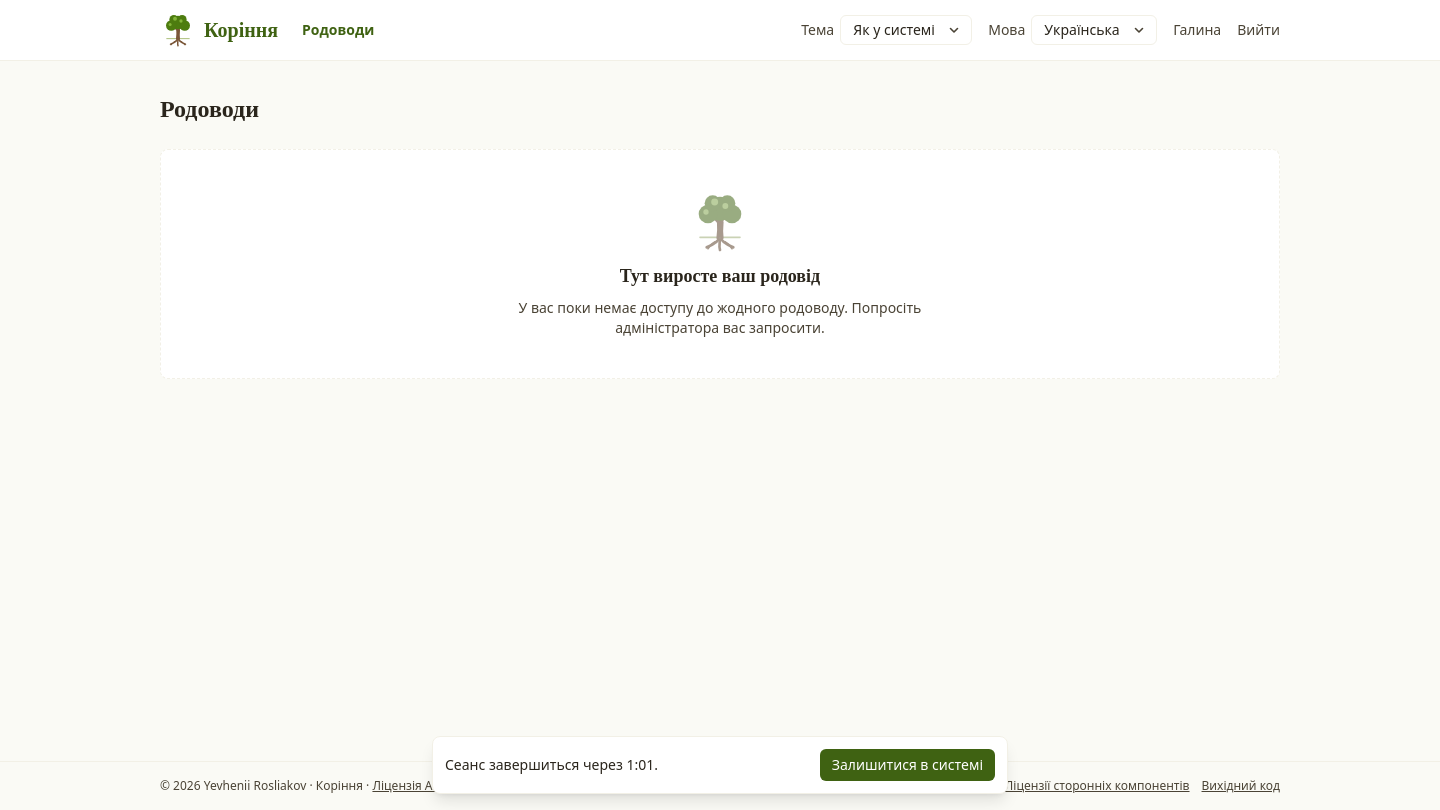
Test: session timeout › warns before the end and keeps the user signed in
Expected: the text "Сеанс завершиться через 1:01." is shown, [445,755,658,774]
Click the button "Залишитися в системі". click: (907, 765)
box: [820,749,995,781]
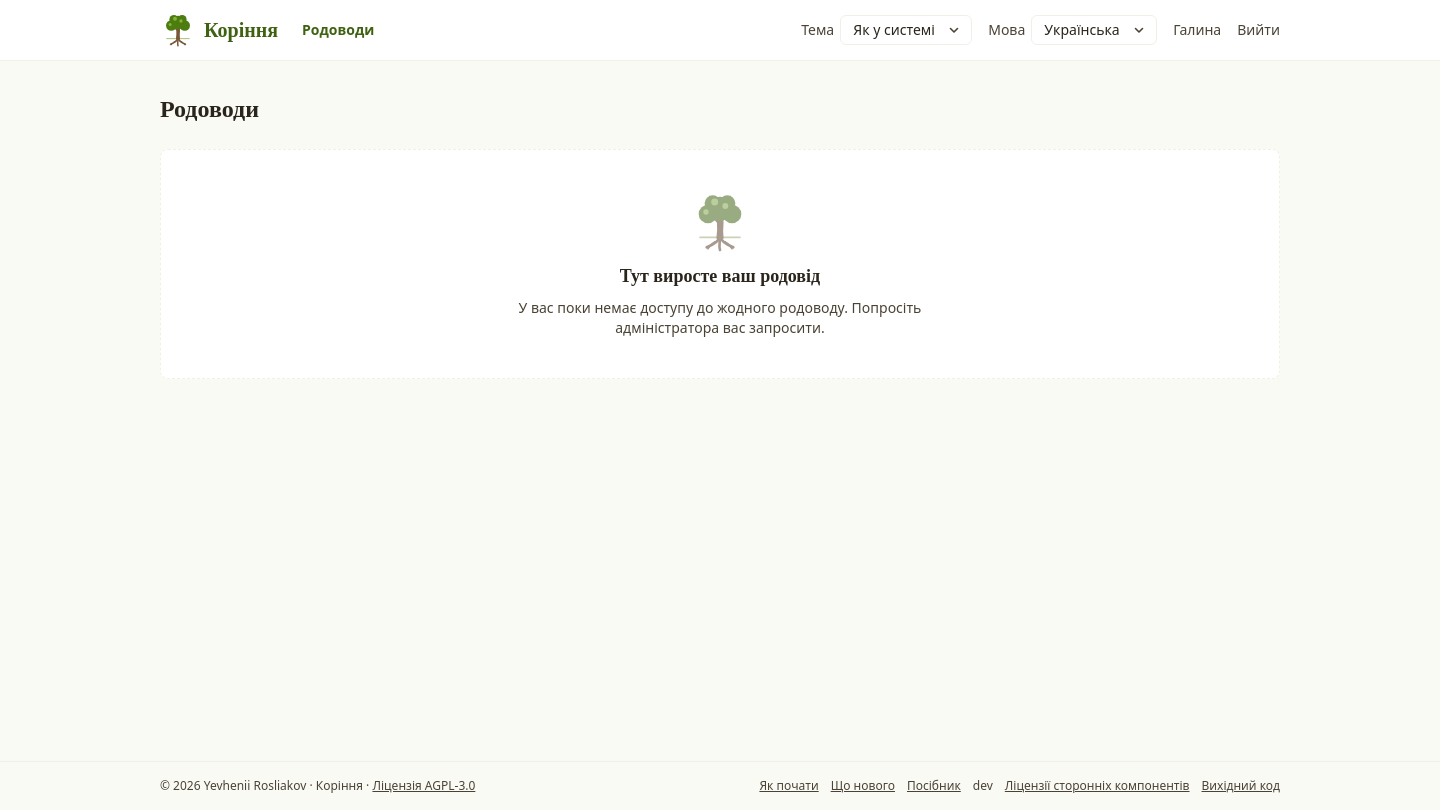
Now the text "Сеанс завершиться через" is gone
